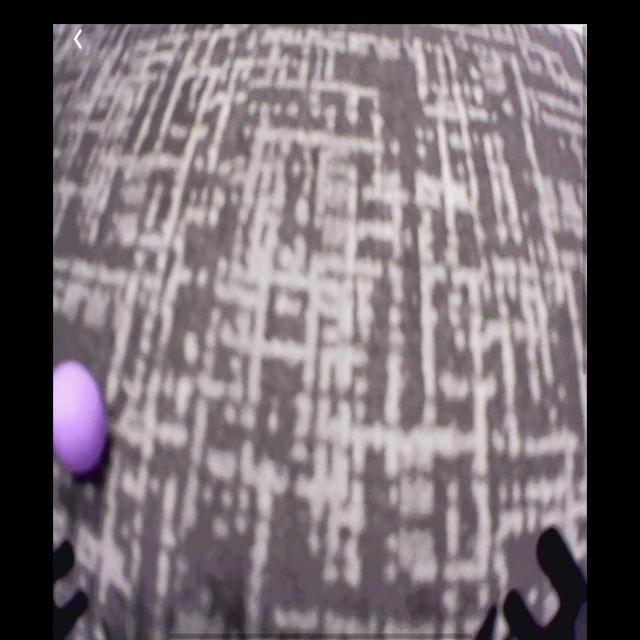ball: (55, 359, 110, 480)
